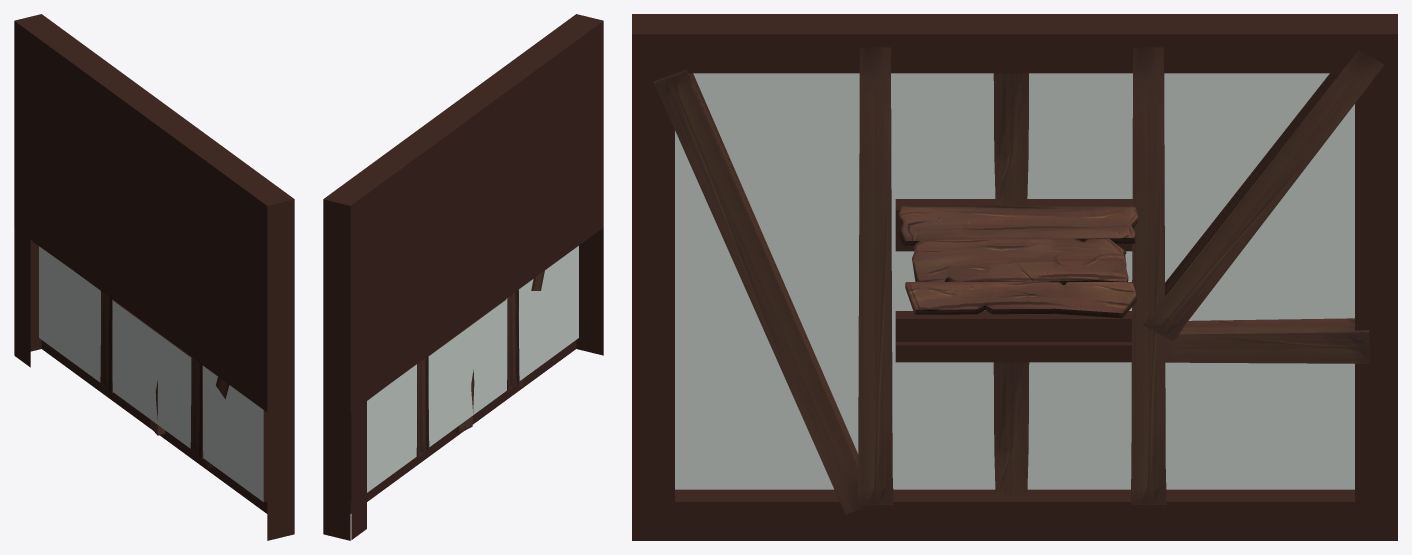
Rendered from WindowHouseWall.fbx.
The picture shows the model from 3 angles, left to right: view 1: azimuth 30°, elevation 25°; view 2: azimuth 150°, elevation 25°; view 3: azimuth 270°, elevation 25°; orthographic projection. The views are drawn at different scales.
Visible parts, largest first — view 1: Cube.002; view 2: Cube.002; view 3: Cube.002.
Boxes of the visible parts, bbox=[...] form: Cube.002: bbox=[14, 14, 294, 540]; Cube.002: bbox=[323, 14, 603, 540]; Cube.002: bbox=[632, 14, 1397, 540].
Bounding box in the file's own units: 39833 × 137317 × 188080.
